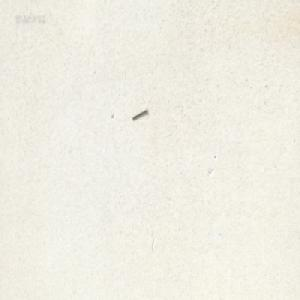Bolt: (131, 107, 147, 119)
